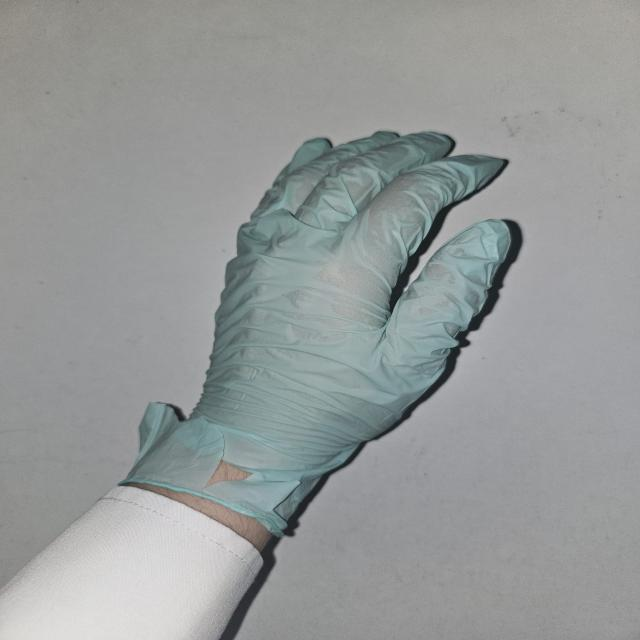gloves_damaged: (117, 130, 512, 541)
